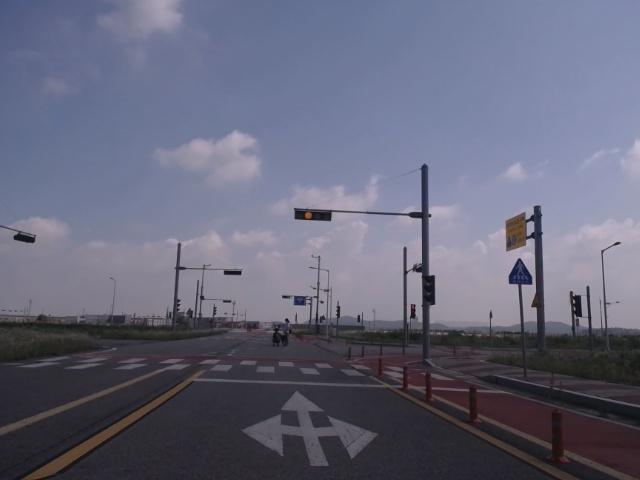orange_4: (297, 209, 333, 223)
